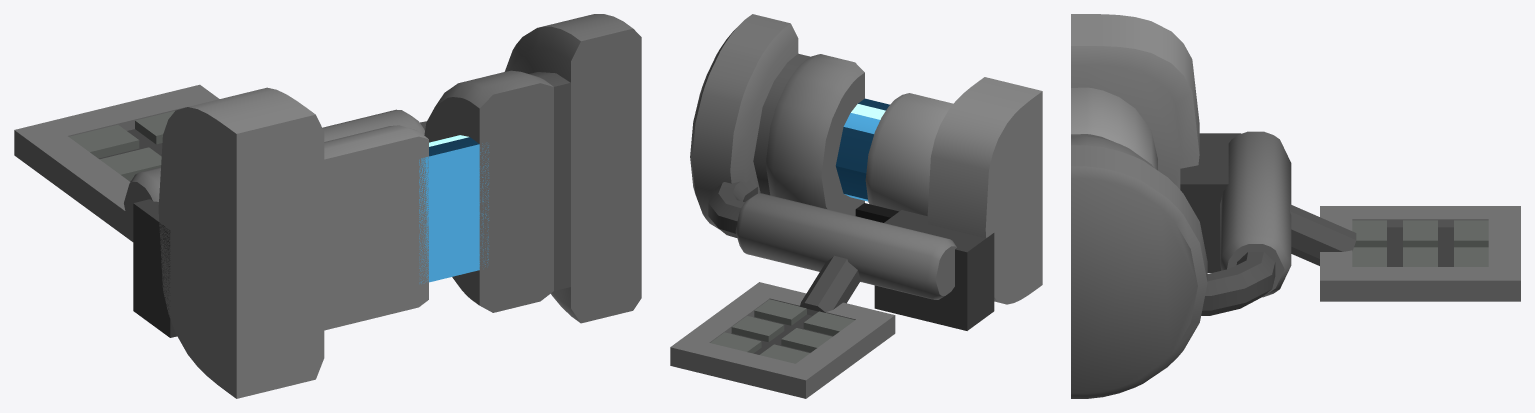
Rendered from newshl-13.glb.
The picture shows the model from 3 angles, left to right: view 1: azimuth 30°, elevation 25°; view 2: azimuth 150°, elevation 25°; view 3: azimuth 270°, elevation 25°; orthographic projection. The views are drawn at different scales.
Parts seen in each view (by area): view 1: newshl-13; view 2: newshl-13; view 3: newshl-13.
Part boxes in pixels (x1,y1,x2,y2): newshl-13: (14, 14, 641, 398); newshl-13: (670, 14, 1042, 398); newshl-13: (1071, 14, 1520, 398).
Bounding box in the file's own units: 2 × 1.33 × 2.33.
